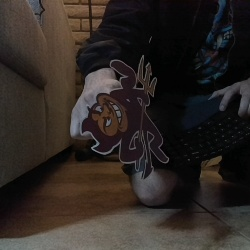sparky: (79, 54, 170, 181)
